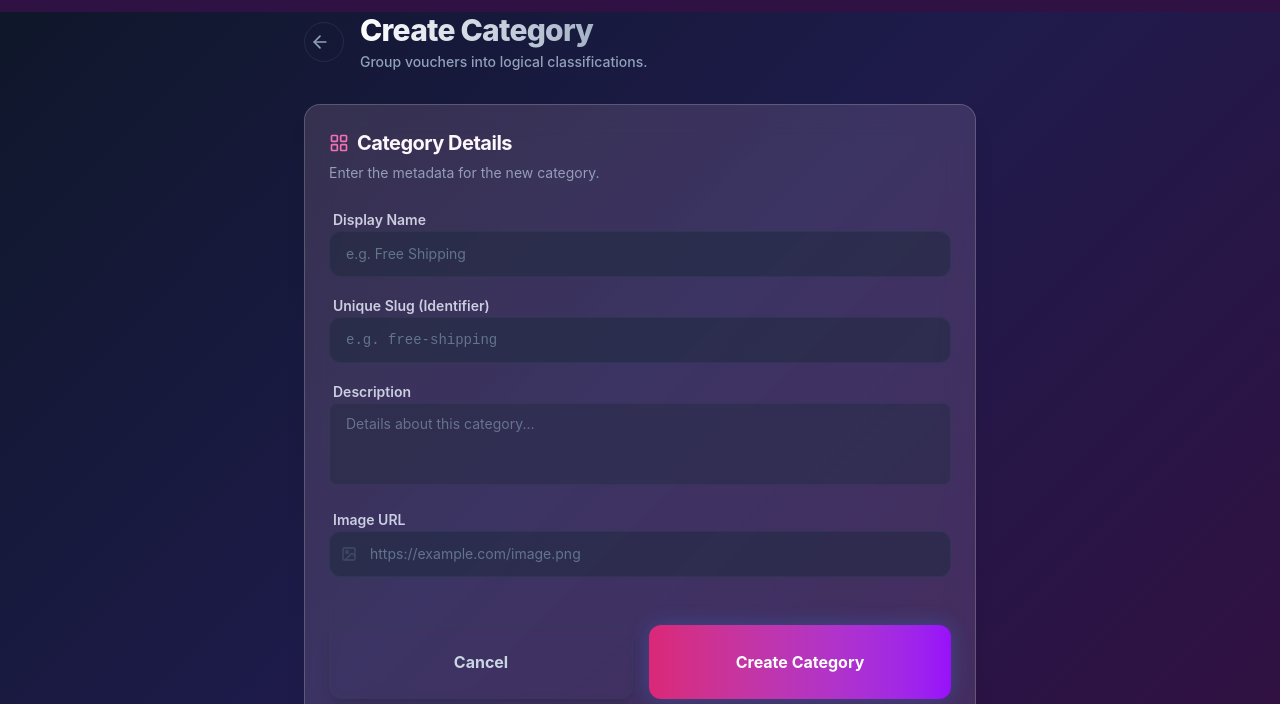
VoucherCategoryCreate › displays error message when API fails
The width and height of the screenshot is (1280, 704).
Type "Free Shipping" into the field labelled "Display Name" at (640, 254), box [329,231,951,277]
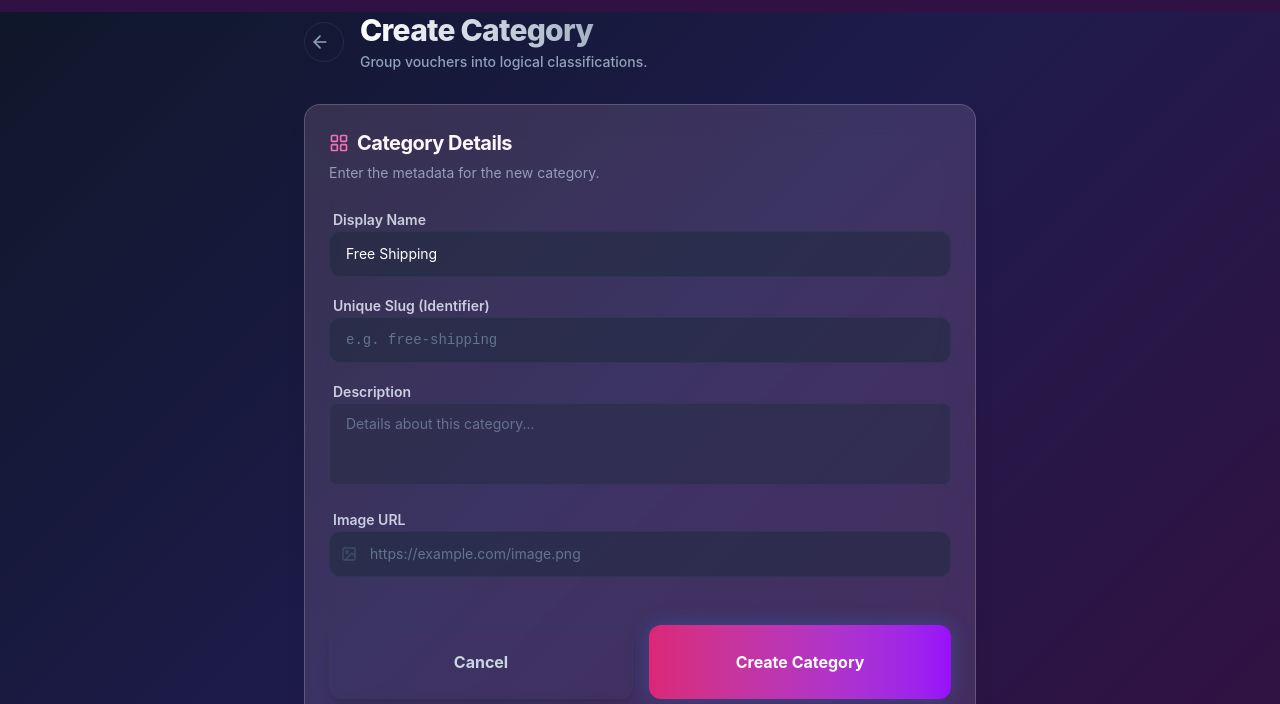
Type "free-shipping" into the field labelled "Unique Slug (Identifier)" at (640, 340), box [329,317,951,363]
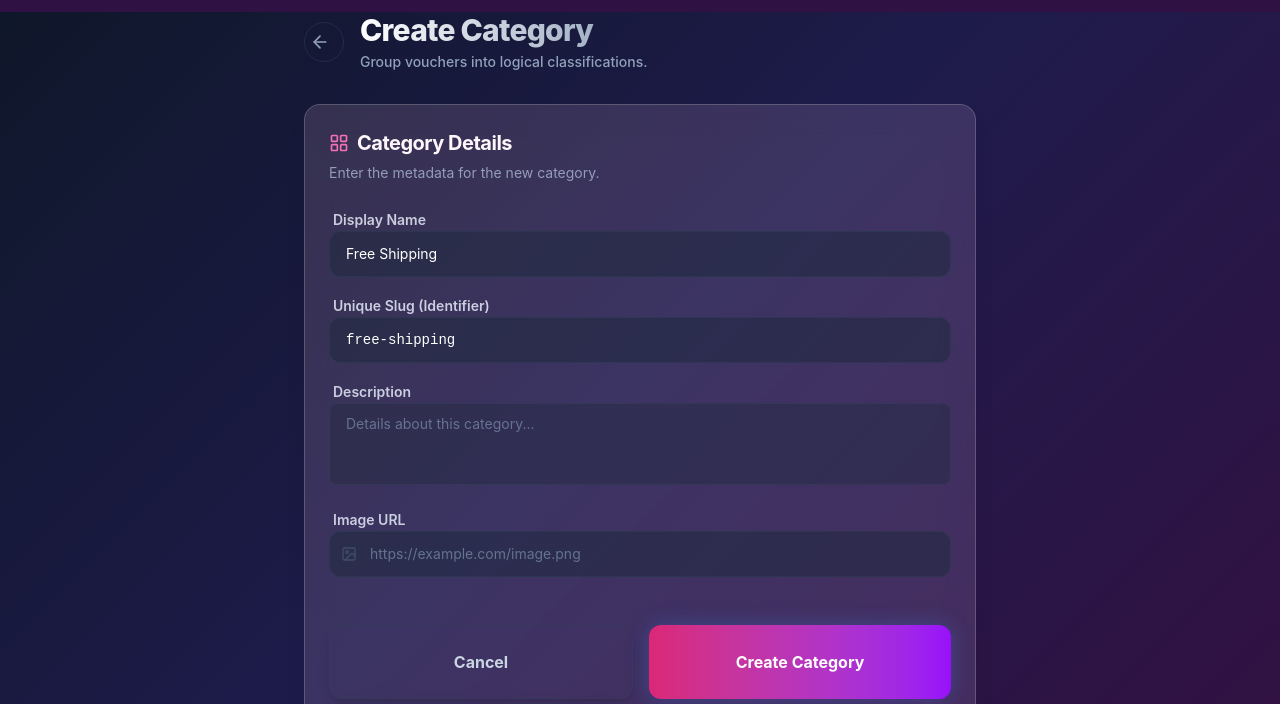
Type "A test description" into the text box labelled "Description" at (640, 444), box [329,403,951,485]
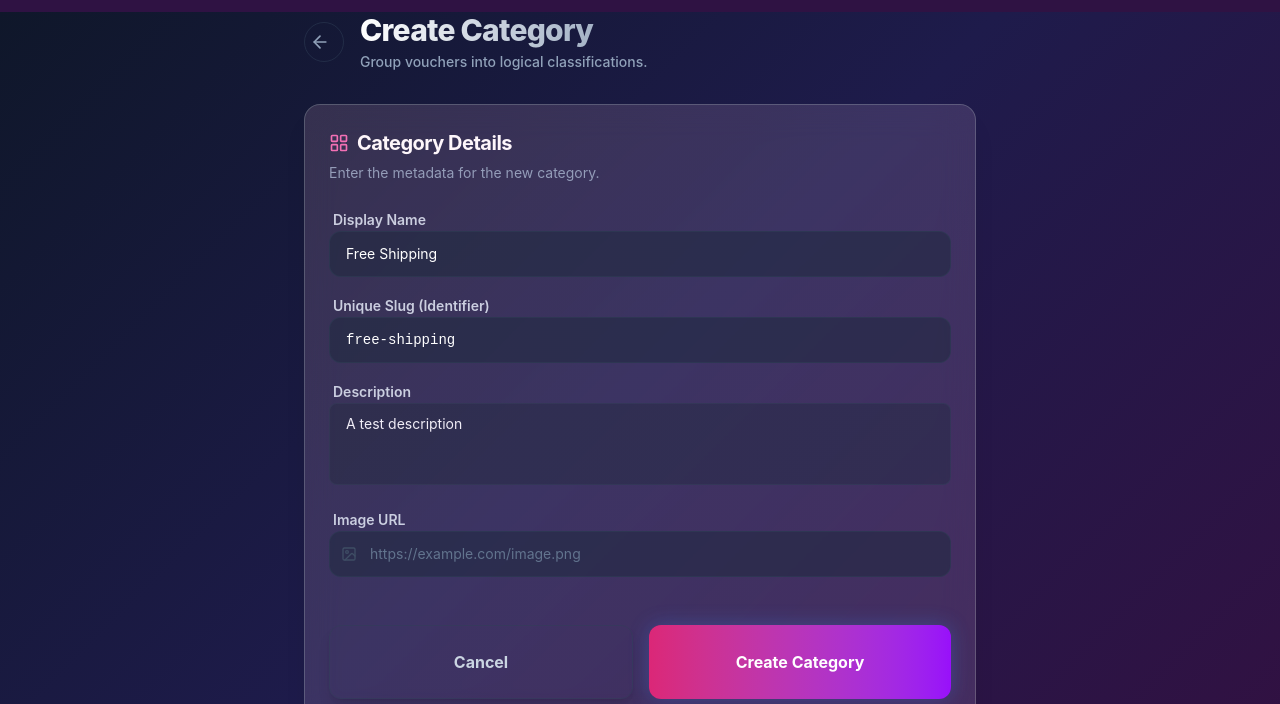
Type "https://example.com/img.png" into the field labelled "Image URL" at (640, 554), box [329,531,951,577]
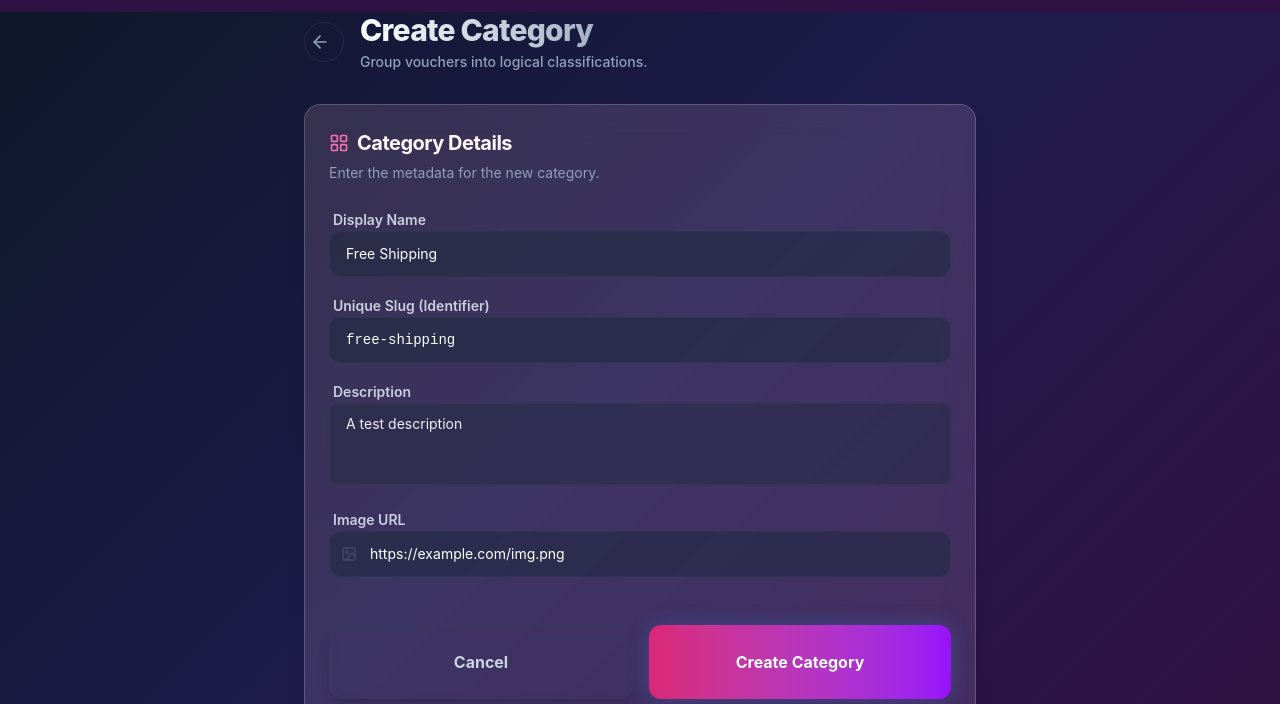
Click the button "Create Category" at (800, 662), box [649,625,951,699]
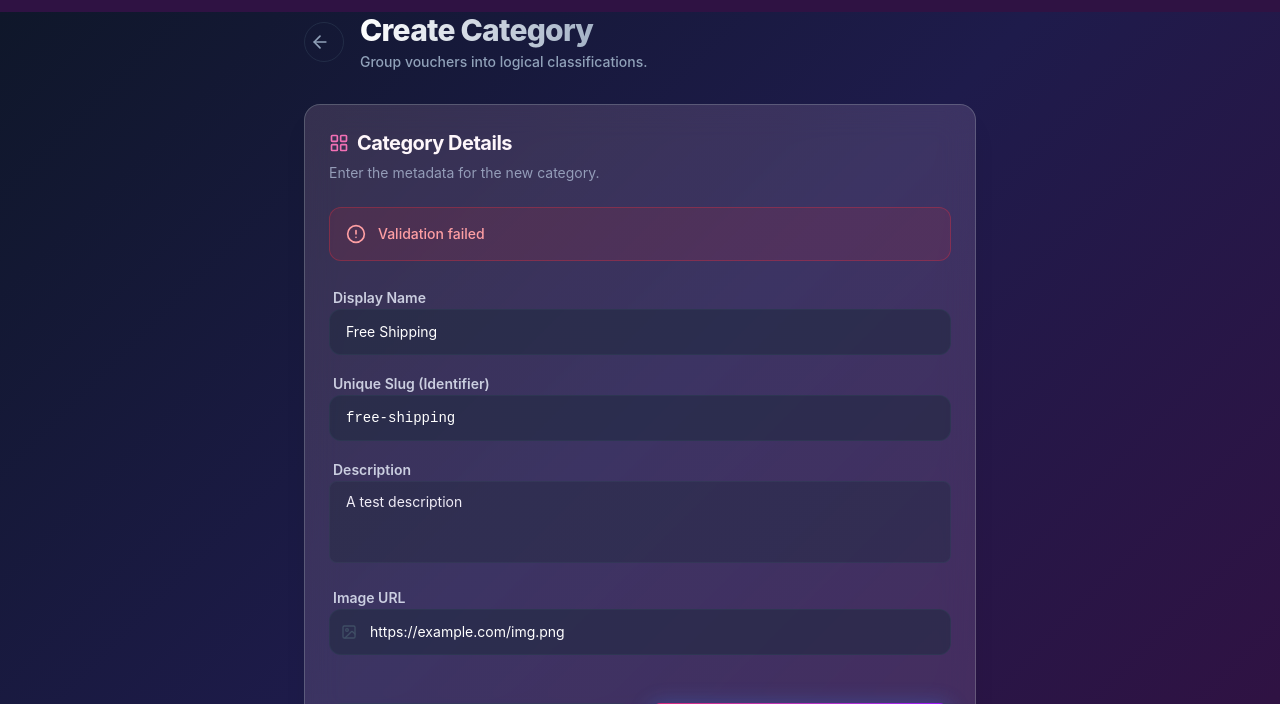
Check: the text "Validation failed" is shown, box [378,224,485,244]
